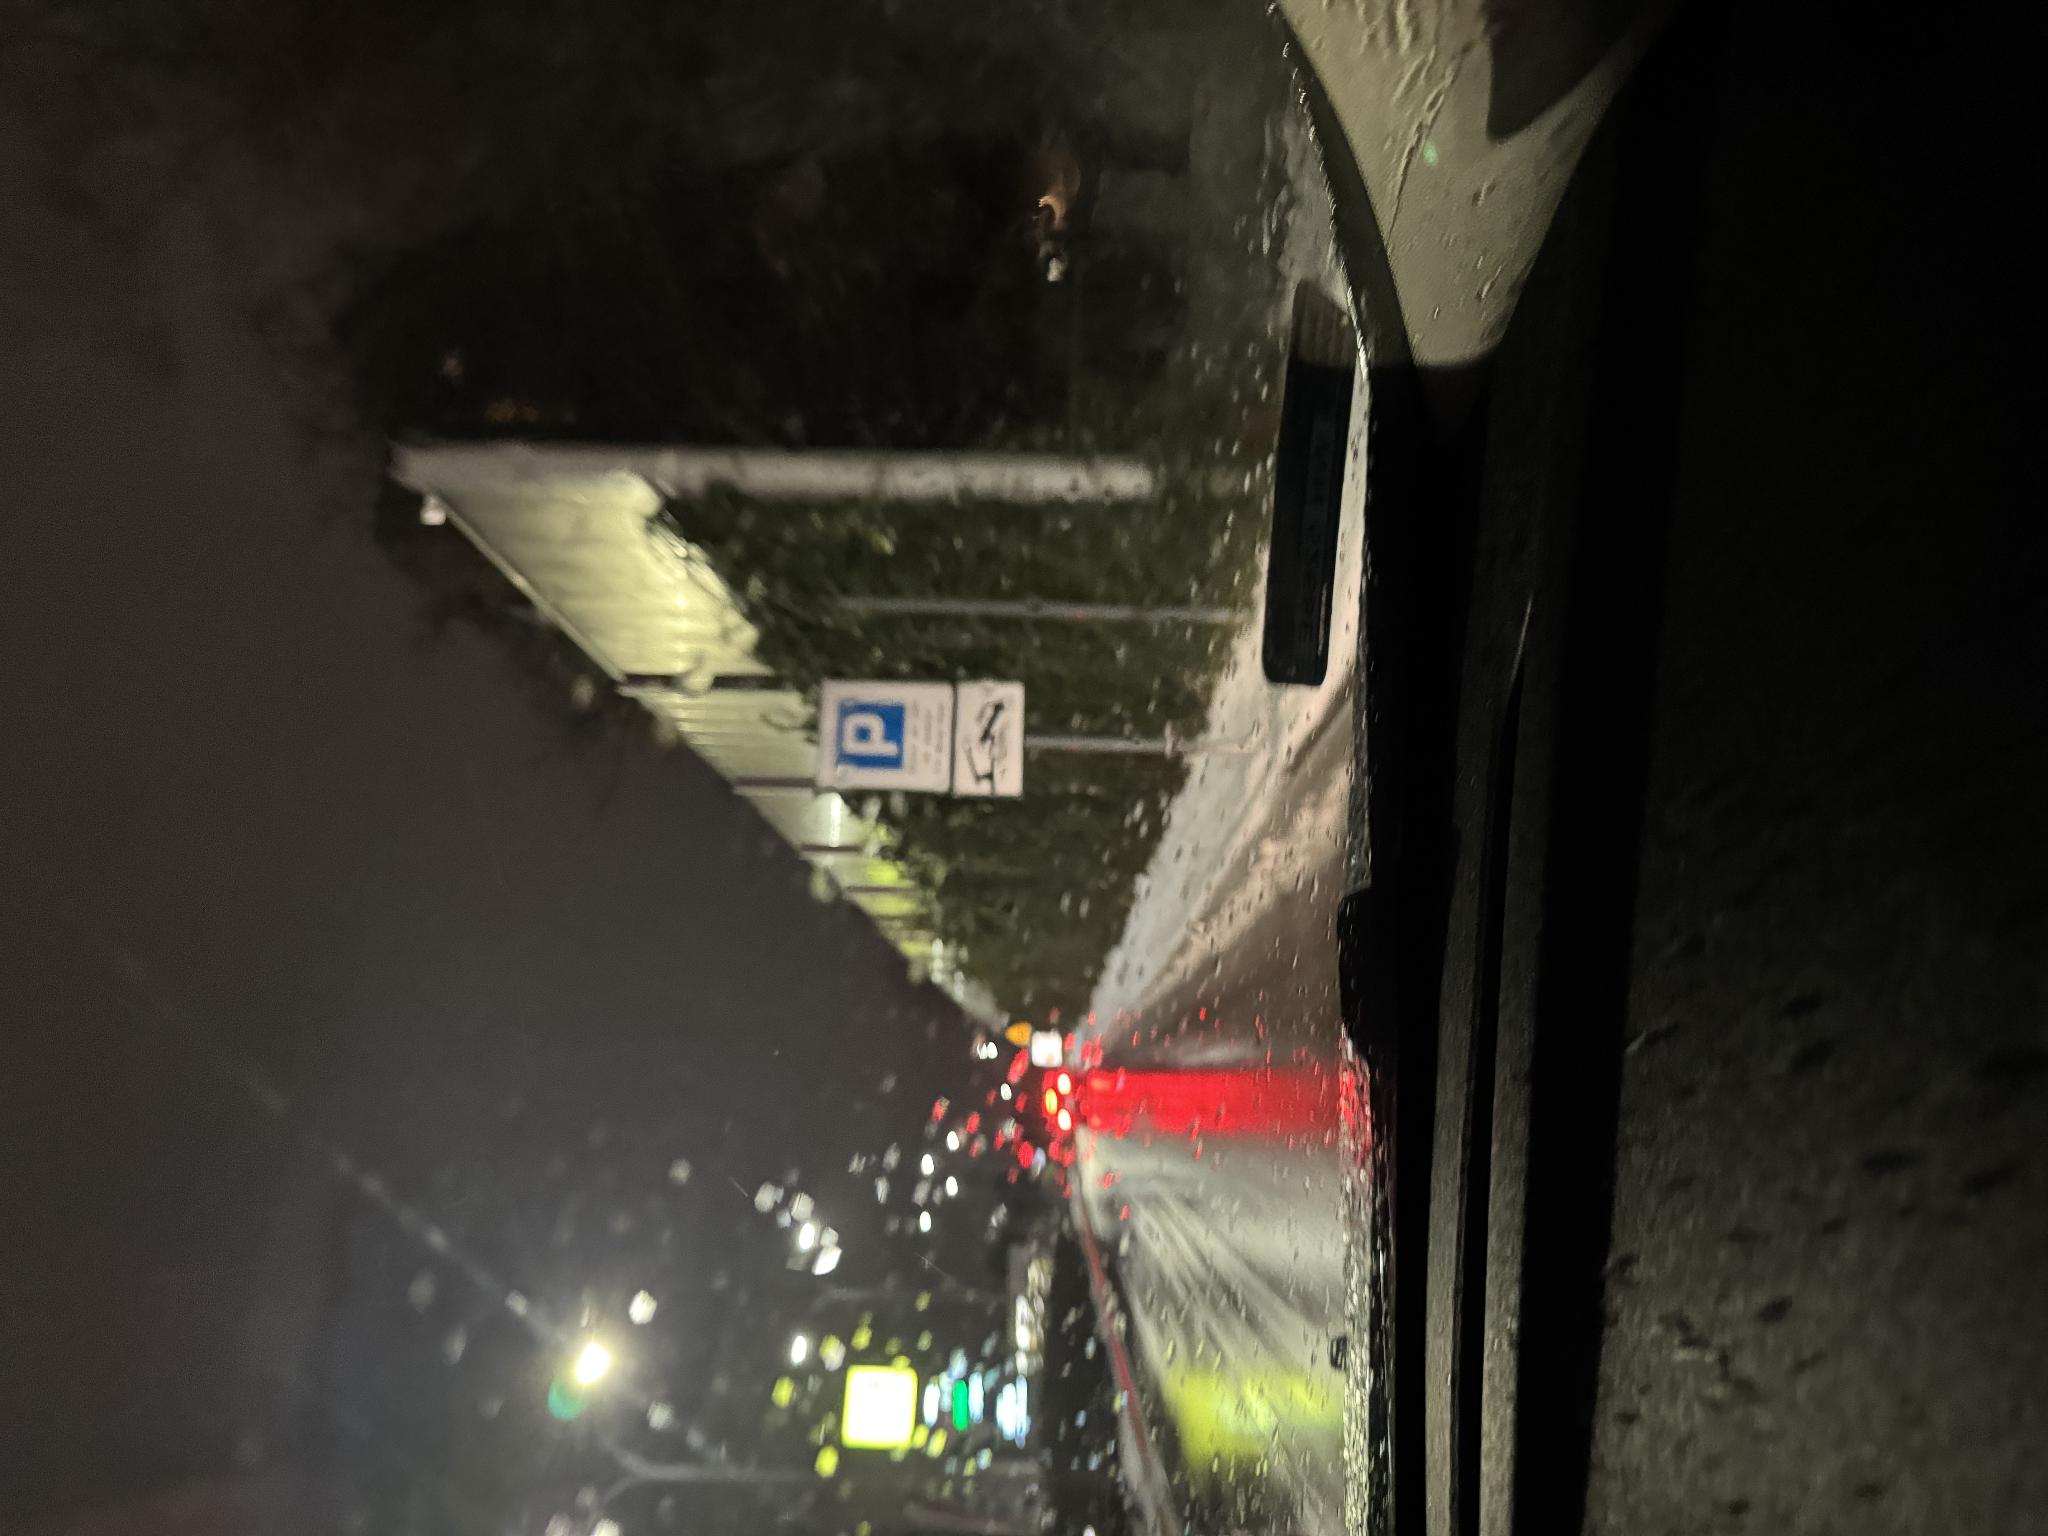information: (768, 837, 835, 905)
